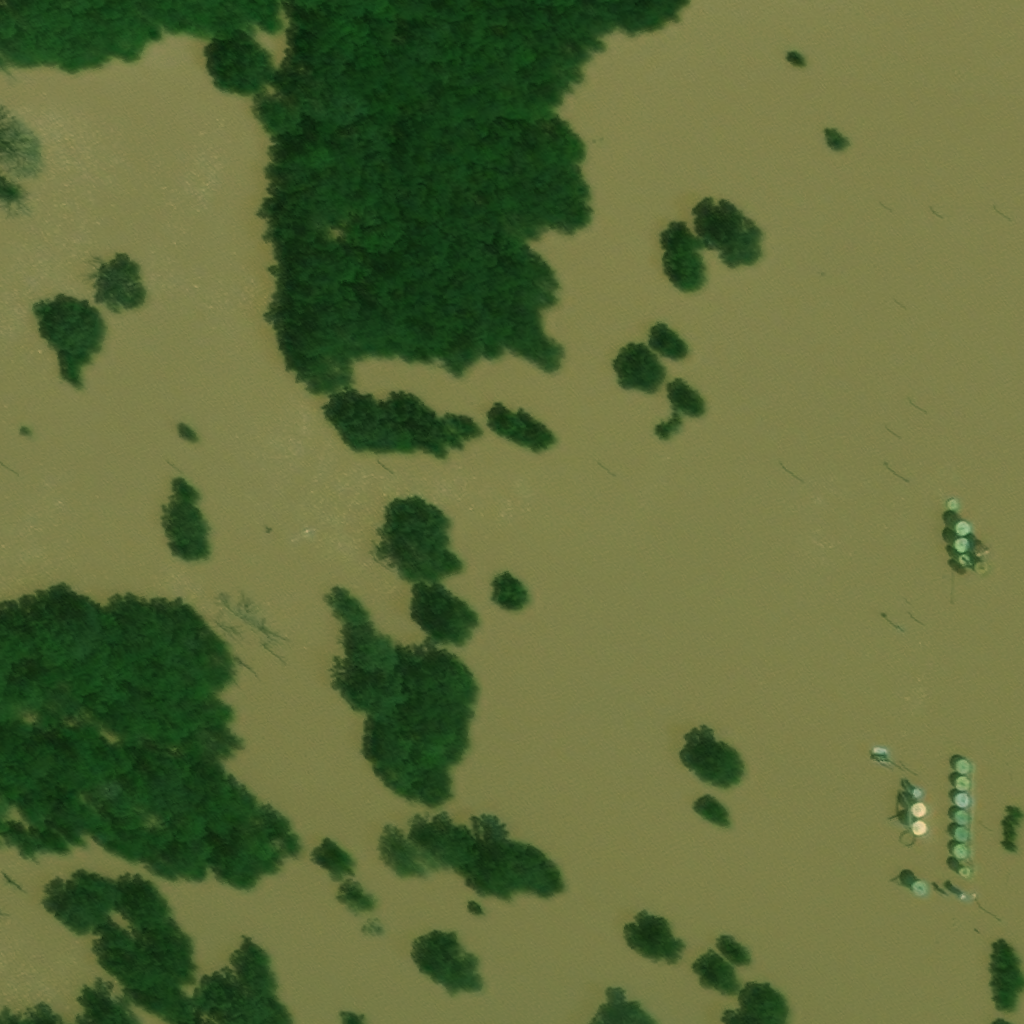destroyed: (943, 911, 956, 931), (952, 561, 962, 573), (909, 721, 915, 731)
major_damage: (903, 870, 921, 891), (953, 755, 970, 772), (967, 552, 983, 570), (936, 753, 952, 770), (966, 535, 982, 552), (903, 830, 918, 846), (903, 794, 918, 810), (904, 812, 918, 829), (953, 773, 968, 788), (953, 790, 968, 805), (953, 824, 968, 839), (948, 512, 962, 527), (951, 858, 964, 873), (952, 807, 965, 821), (951, 841, 963, 855), (947, 529, 959, 542), (950, 884, 957, 897), (952, 547, 963, 555)
